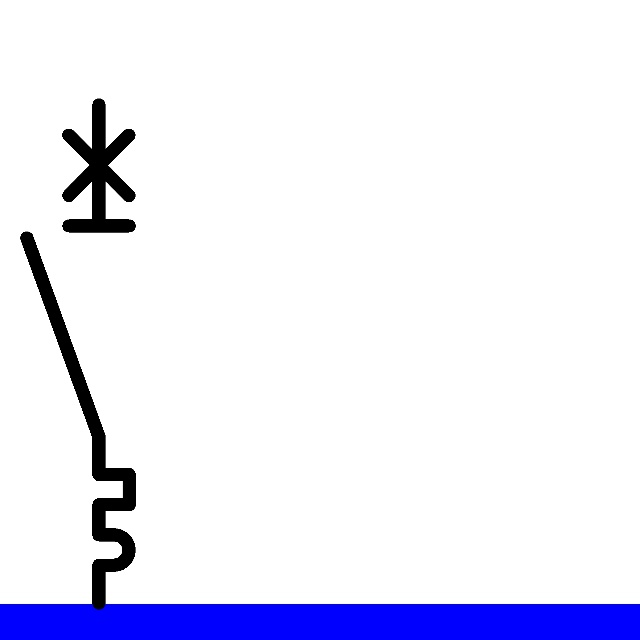interruptor_termomagnetico: (14, 92, 142, 616)
